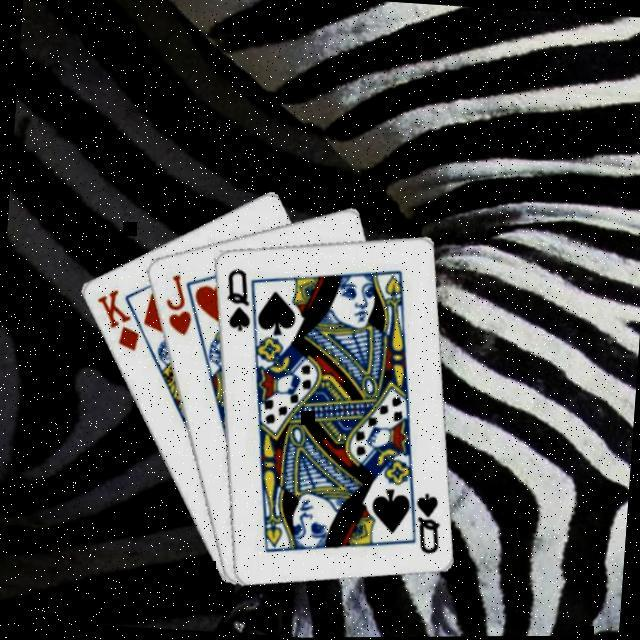JH: (160, 269, 198, 337)
KD: (90, 284, 146, 353)
QS: (220, 264, 257, 334), (410, 488, 446, 556)
